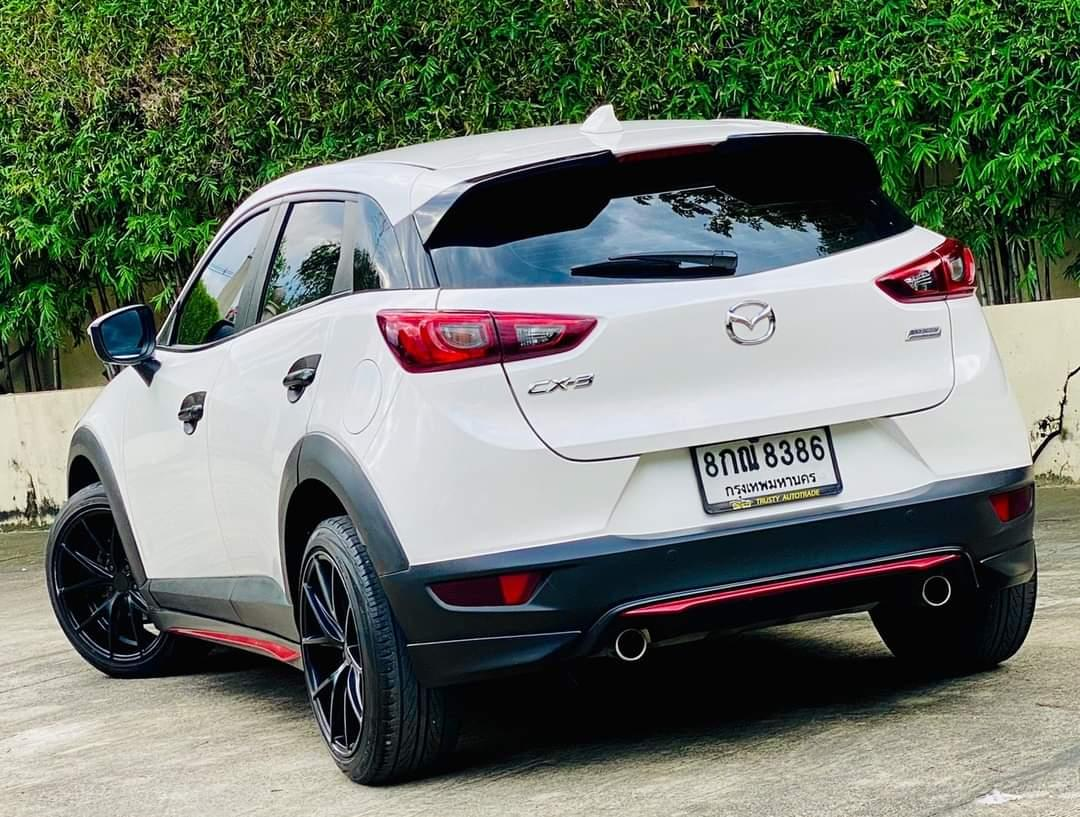license-plate: (687, 422, 843, 518)
